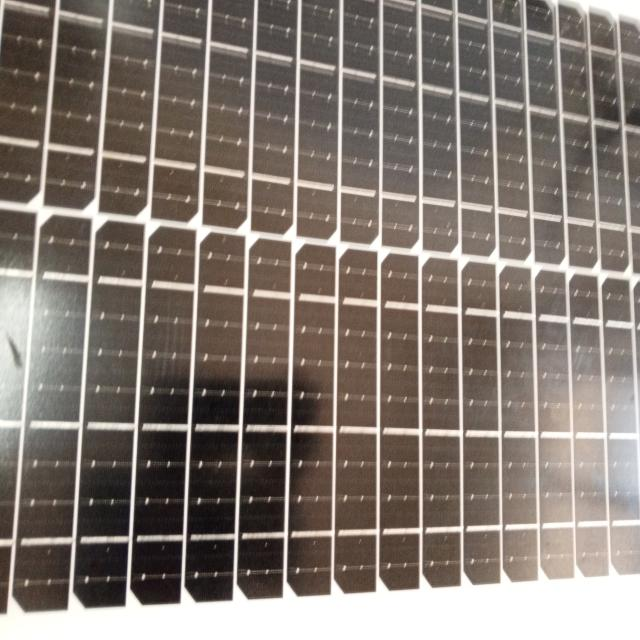Clean: (12, 7, 638, 610)
